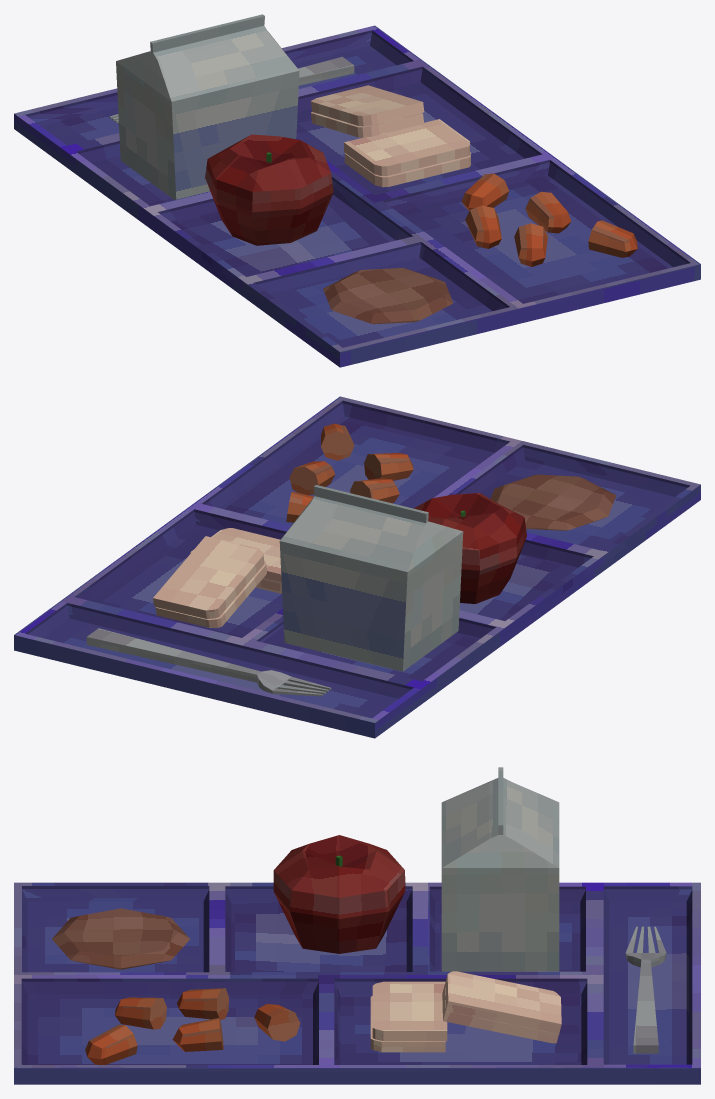
The model's file is Food tray.1.fbx.
The picture shows the model from 3 angles, top to bottom: view 1: azimuth 30°, elevation 25°; view 2: azimuth 150°, elevation 25°; view 3: azimuth 270°, elevation 25°; orthographic projection. The views are drawn at different scales.
Parts seen in each view (by area): view 1: Food tray.1; view 2: Food tray.1; view 3: Food tray.1.
Part boxes in pixels (x1=…): Food tray.1: x1=14, y1=14, x2=700, y2=367; Food tray.1: x1=14, y1=396, x2=700, y2=738; Food tray.1: x1=14, y1=767, x2=700, y2=1084.
Bounding box in the file's own units: 200 × 77.09 × 313.
Materials: 1 (1 with a texture image).
